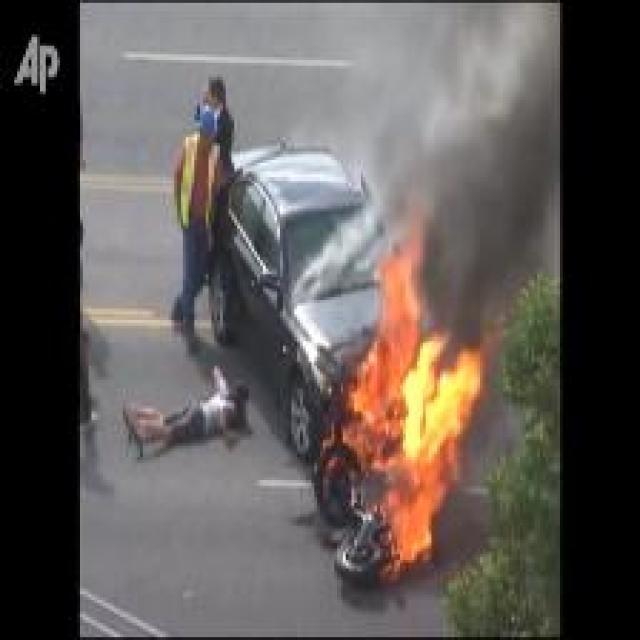Fire: (343, 228, 483, 572)
